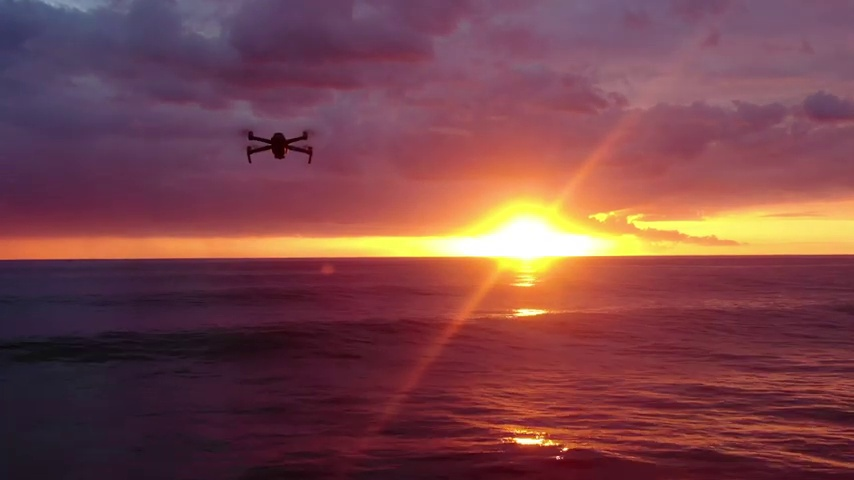drone: (243, 129, 315, 166)
